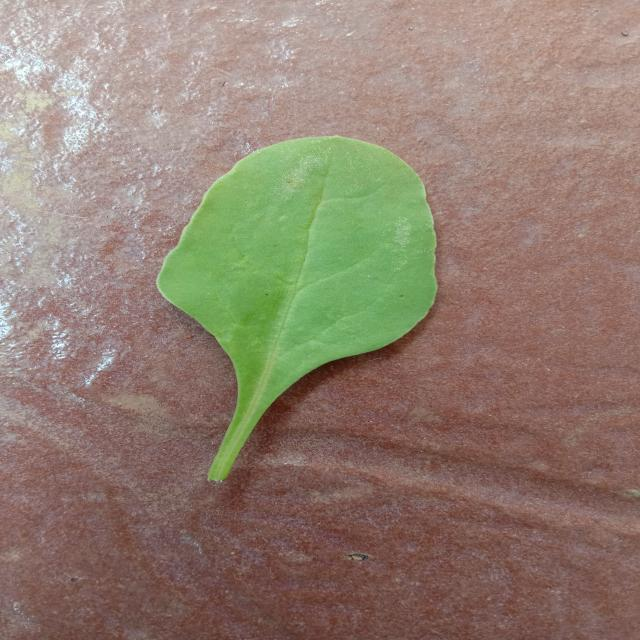leaf: (155, 133, 438, 484)
